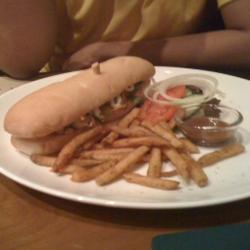fries: (60, 114, 197, 191)
hotdog: (15, 51, 148, 150)
